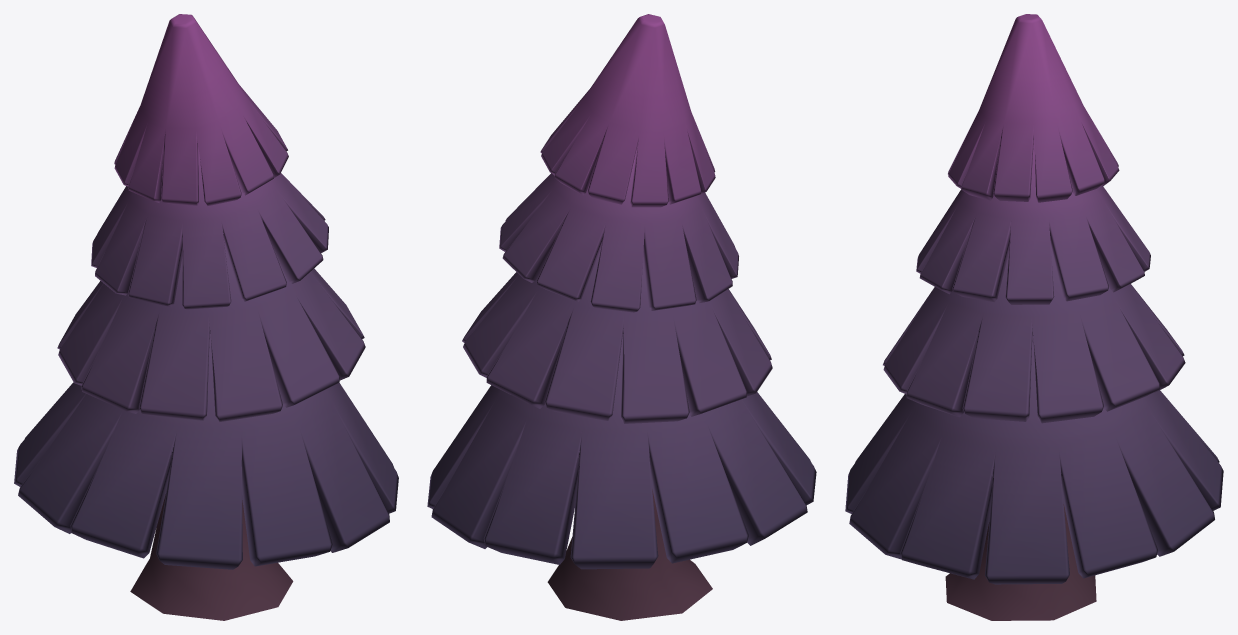
The model's file is prop_environment_tree01_4.fbx.
The picture shows the model from 3 angles, left to right: view 1: azimuth 30°, elevation 25°; view 2: azimuth 150°, elevation 25°; view 3: azimuth 270°, elevation 25°; orthographic projection. The views are drawn at different scales.
Parts seen in each view (by area): view 1: prop_environment_tree01_4; view 2: prop_environment_tree01_4; view 3: prop_environment_tree01_4.
Boxes of the visible parts, box(x1,y1,x2,y2) form: prop_environment_tree01_4: box(14, 14, 398, 620); prop_environment_tree01_4: box(427, 14, 816, 620); prop_environment_tree01_4: box(845, 14, 1223, 620).
Size of the model in its own units: 321 by 522 by 319.
Materials: 1 (1 with a texture image).
